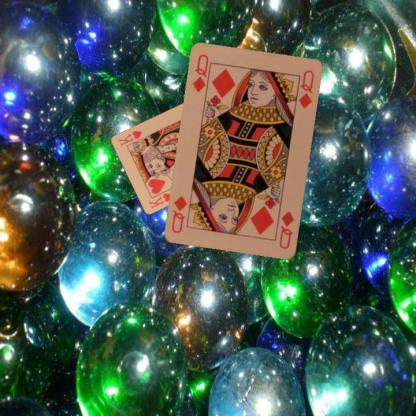Kh: (146, 190, 174, 210)
Qd: (190, 52, 214, 98), (277, 208, 296, 250)
